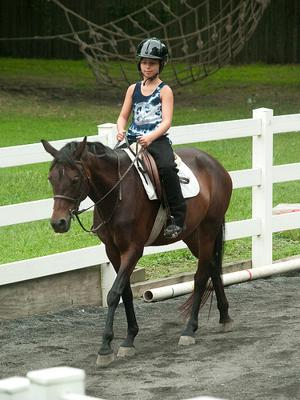person: (113, 38, 188, 238)
